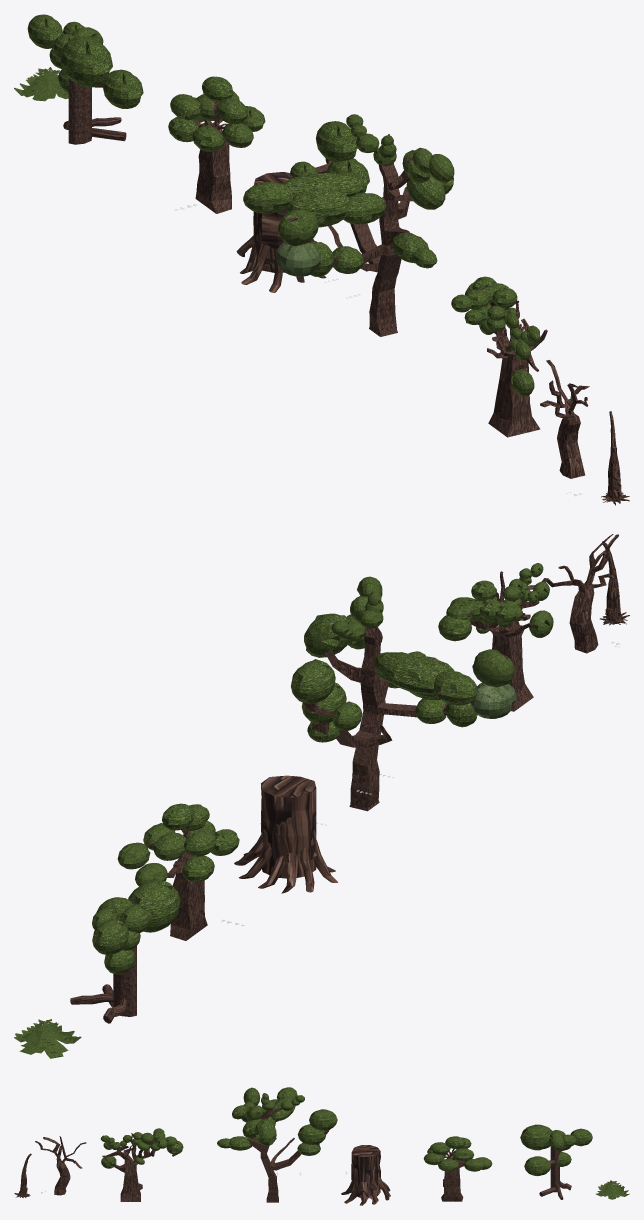
Rendered from Trees.fbx.
The picture shows the model from 3 angles, top to bottom: view 1: azimuth 30°, elevation 25°; view 2: azimuth 150°, elevation 25°; view 3: azimuth 270°, elevation 25°; orthographic projection. The views are drawn at different scales.
Parts seen in each view (by area): view 1: Cube.067, Cube.069, Cylinder.010, Cube.068, Cube.071, Sphere.062, Sphere.021, Cylinder.003, Sphere.001, Sphere.023, Sphere.022, Sphere.031 (+8 smaller); view 2: Cylinder.010, Cube.067, Cube.071, Cube.069, Cube.068, Sphere.023, Sphere.062, Sphere.001, Sphere.004, Sphere.031, Sphere.032, Sphere.022 (+5 smaller); view 3: Cylinder.010, Cube.069, Cube.067, Cube.071, Cube.068, Sphere.062, Sphere.001, Sphere.004, Sphere.002, Sphere.063, Cylinder.003, Sphere.023 (+14 smaller).
Boxes of the visible parts, x1,y1,x2,y2 form: Cube.067: [286, 134, 413, 336]; Cube.069: [453, 288, 547, 437]; Cylinder.010: [236, 172, 326, 292]; Cube.068: [193, 101, 231, 213]; Cube.071: [540, 360, 589, 478]; Sphere.062: [60, 36, 112, 87]; Sphere.021: [287, 188, 349, 227]; Cylinder.003: [68, 78, 91, 144]; Sphere.001: [316, 121, 357, 162]; Sphere.023: [282, 172, 365, 196]; Sphere.022: [243, 182, 293, 213]; Sphere.031: [276, 242, 320, 276]; Cylinder.010: [234, 775, 337, 893]; Cube.067: [304, 592, 508, 811]; Cube.071: [528, 534, 618, 653]; Cube.069: [468, 571, 539, 711]; Cube.068: [145, 829, 207, 940]; Sphere.023: [374, 652, 440, 694]; Sphere.062: [128, 878, 180, 932]; Sphere.001: [290, 659, 335, 703]; Sphere.004: [304, 613, 349, 657]; Sphere.031: [470, 683, 516, 718]; Sphere.032: [472, 649, 514, 687]; Sphere.022: [434, 671, 477, 705]; Cylinder.010: [341, 1145, 390, 1205]; Cube.069: [102, 1133, 177, 1201]; Cube.067: [246, 1088, 328, 1202]; Cube.071: [35, 1136, 86, 1195]; Cube.068: [441, 1148, 465, 1201]; Sphere.062: [520, 1124, 552, 1150]; Sphere.001: [309, 1109, 337, 1130]; Sphere.004: [255, 1119, 276, 1145]; Sphere.002: [297, 1124, 325, 1144]; Sphere.063: [524, 1156, 550, 1176]; Cylinder.003: [550, 1147, 559, 1192]; Sphere.023: [270, 1096, 295, 1120].
Bounding box in the file's own units: 932 × 979 × 5057.
Materials: 11 (8 with a texture image).
